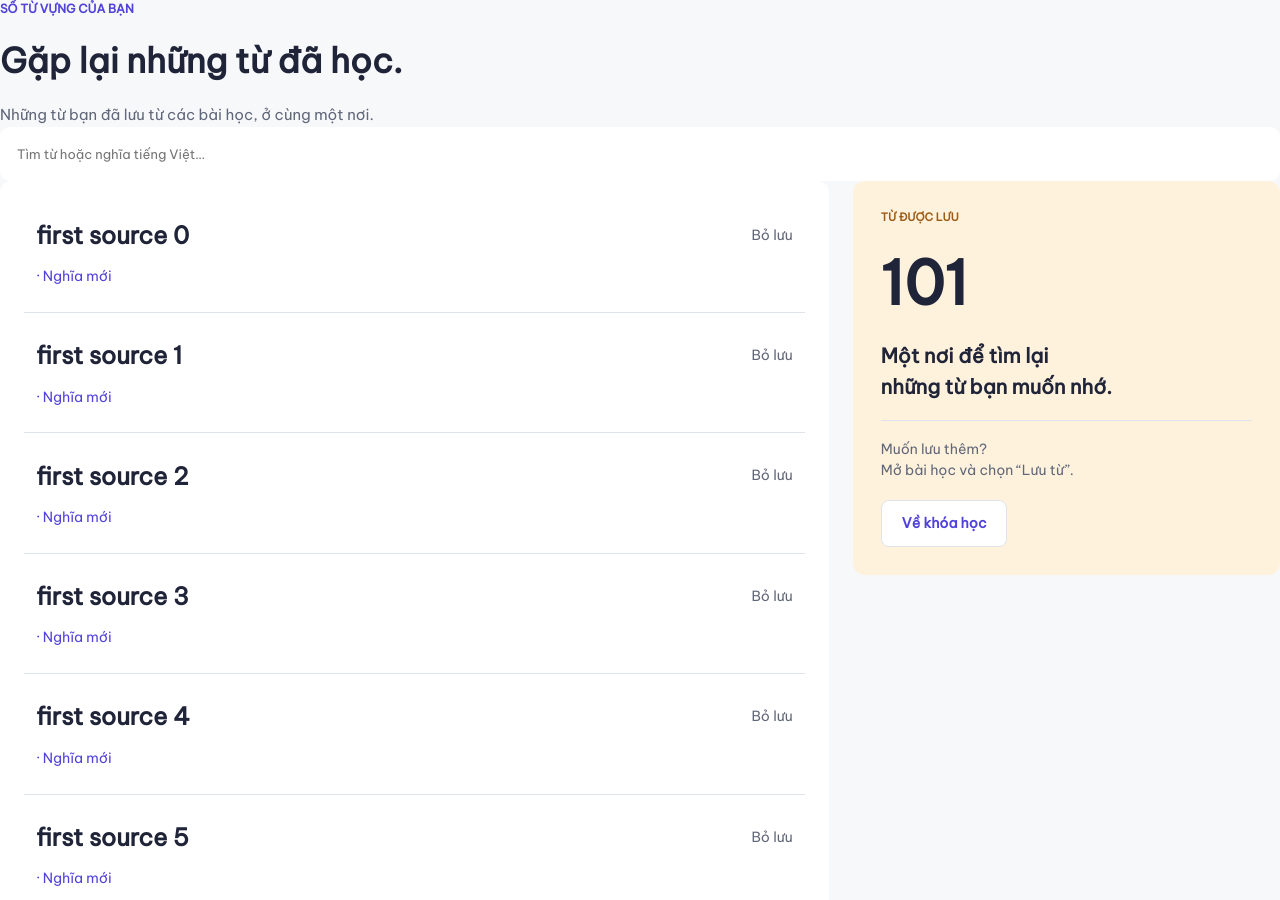
it: uses the current source, fetches every page and distinguishes no search match
Type "absent" into the field named "Tìm từ đã lưu" at (640, 154), box [0,126,1279,181]
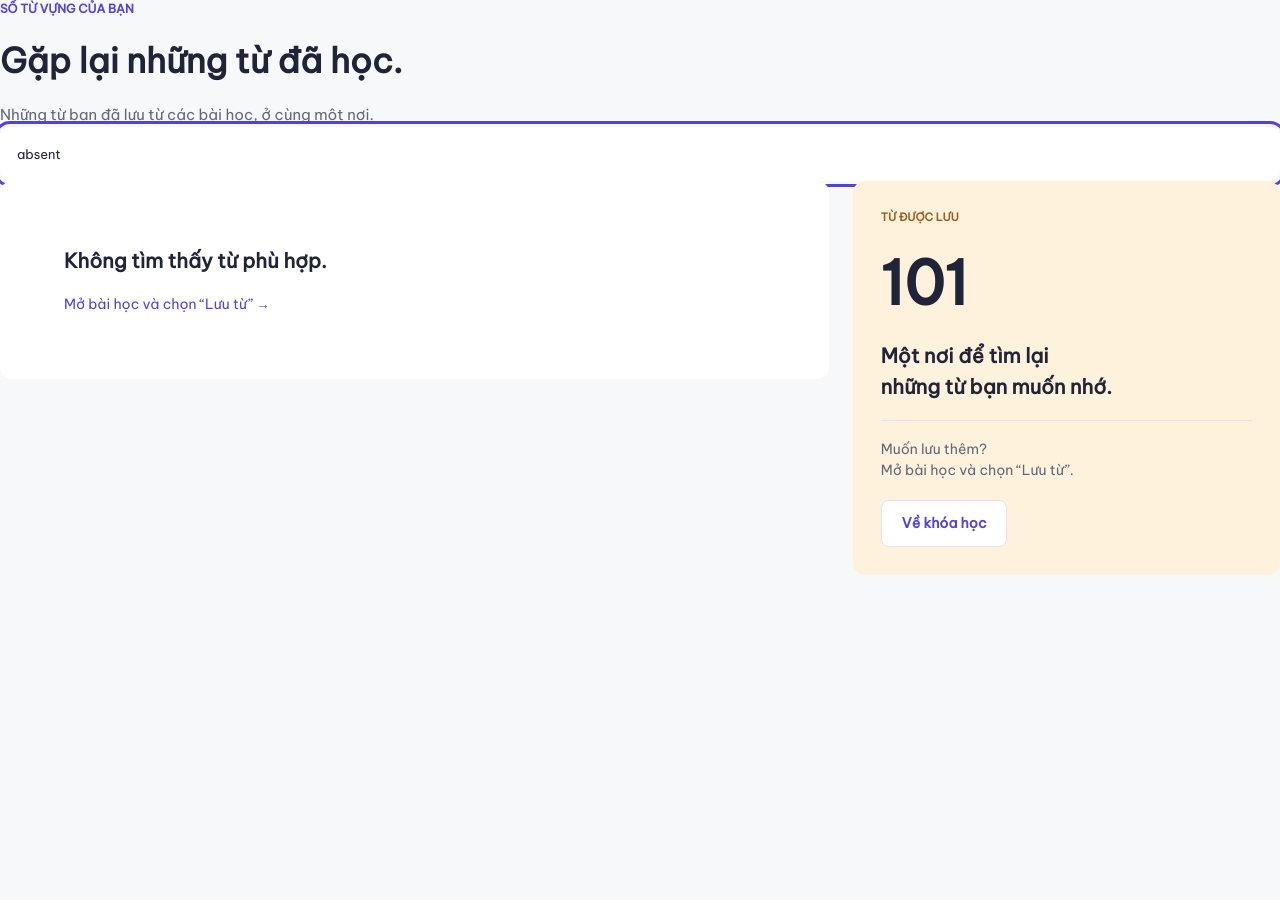
Now the heading "Không tìm thấy từ phù hợp." is shown, box [64,245,327,276]
